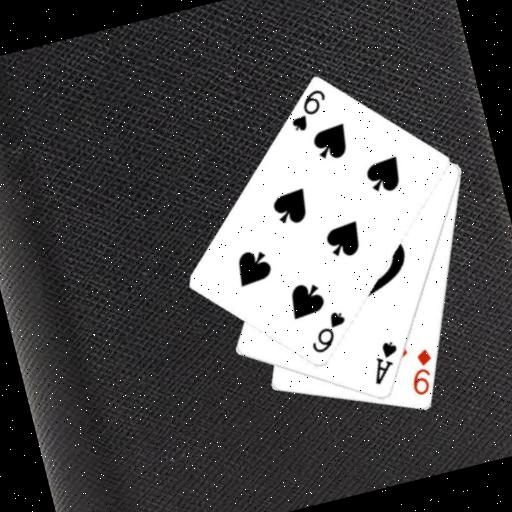6S: (282, 85, 334, 136), (302, 307, 354, 357)
9D: (401, 345, 442, 400)
AS: (363, 337, 407, 388)
